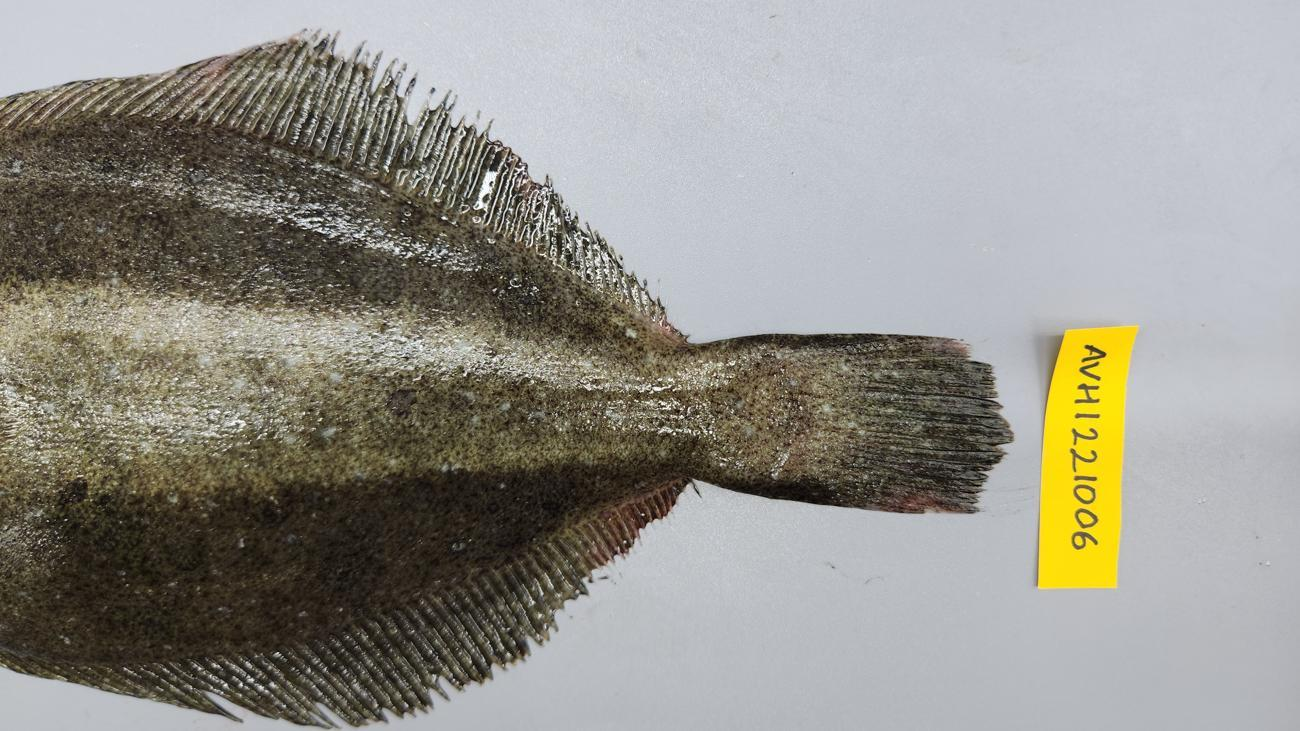VIFAH: (564, 479, 685, 600)
VIFCH: (878, 337, 970, 360)
